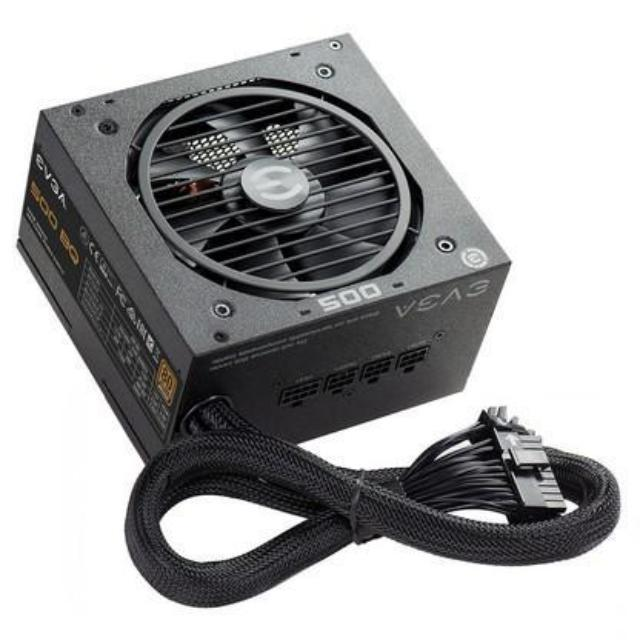PSU: (0, 22, 523, 500)
